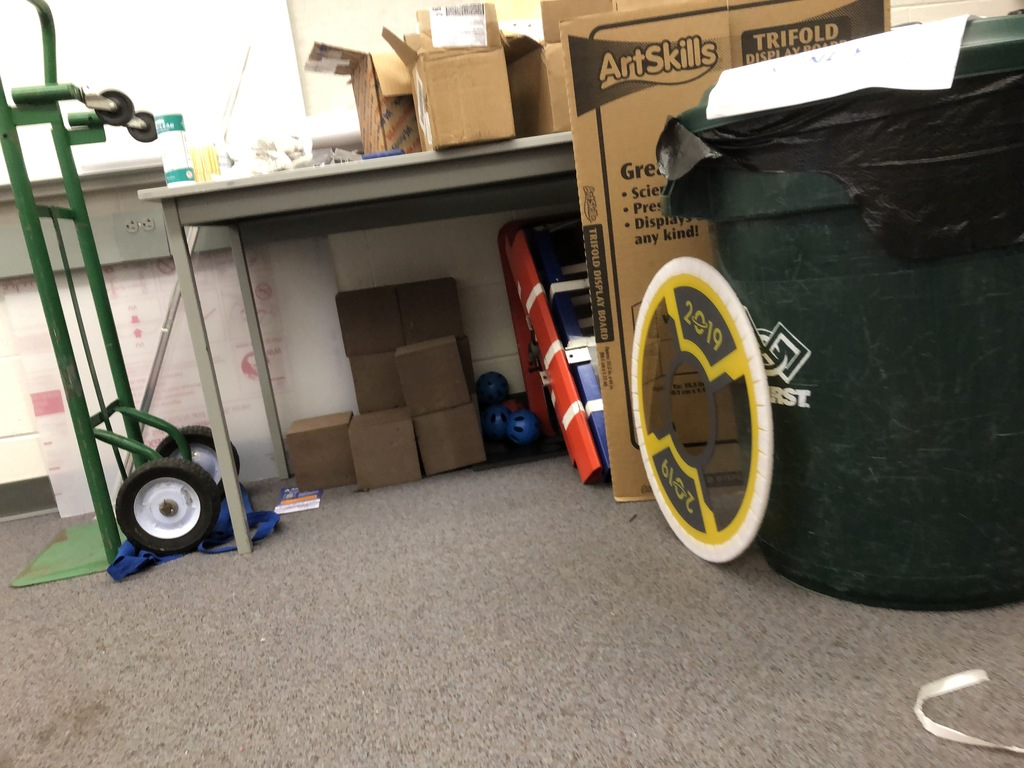hatch_panel: (624, 246, 789, 599)
